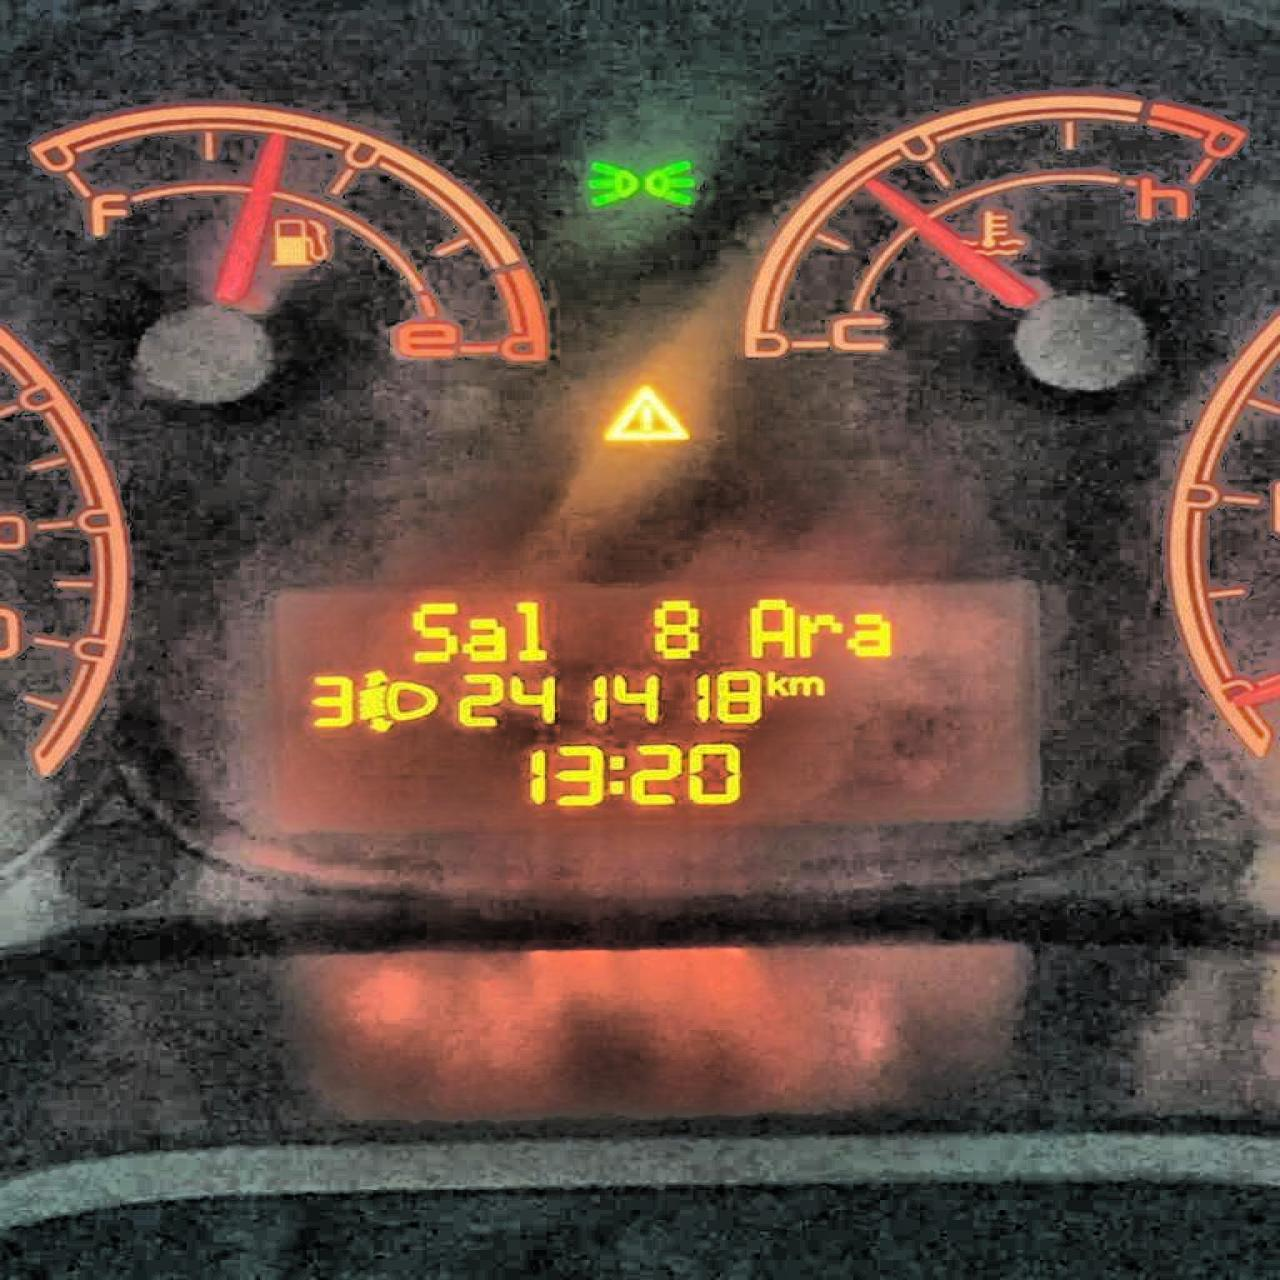0: (683, 740, 740, 805)
1: (515, 741, 545, 809), (684, 669, 708, 721), (583, 672, 605, 726)
2: (628, 739, 680, 805), (456, 668, 502, 728)
3: (550, 740, 602, 808), (303, 671, 355, 730)
4: (612, 671, 662, 724), (506, 672, 556, 722)
8: (646, 595, 702, 660), (712, 668, 763, 722)
X: (405, 596, 460, 664), (746, 595, 796, 659), (512, 595, 552, 664), (845, 609, 895, 659), (797, 609, 843, 659), (462, 616, 508, 664), (603, 750, 630, 796), (790, 672, 823, 696), (764, 665, 788, 696)
odometer: (252, 566, 1048, 845)
